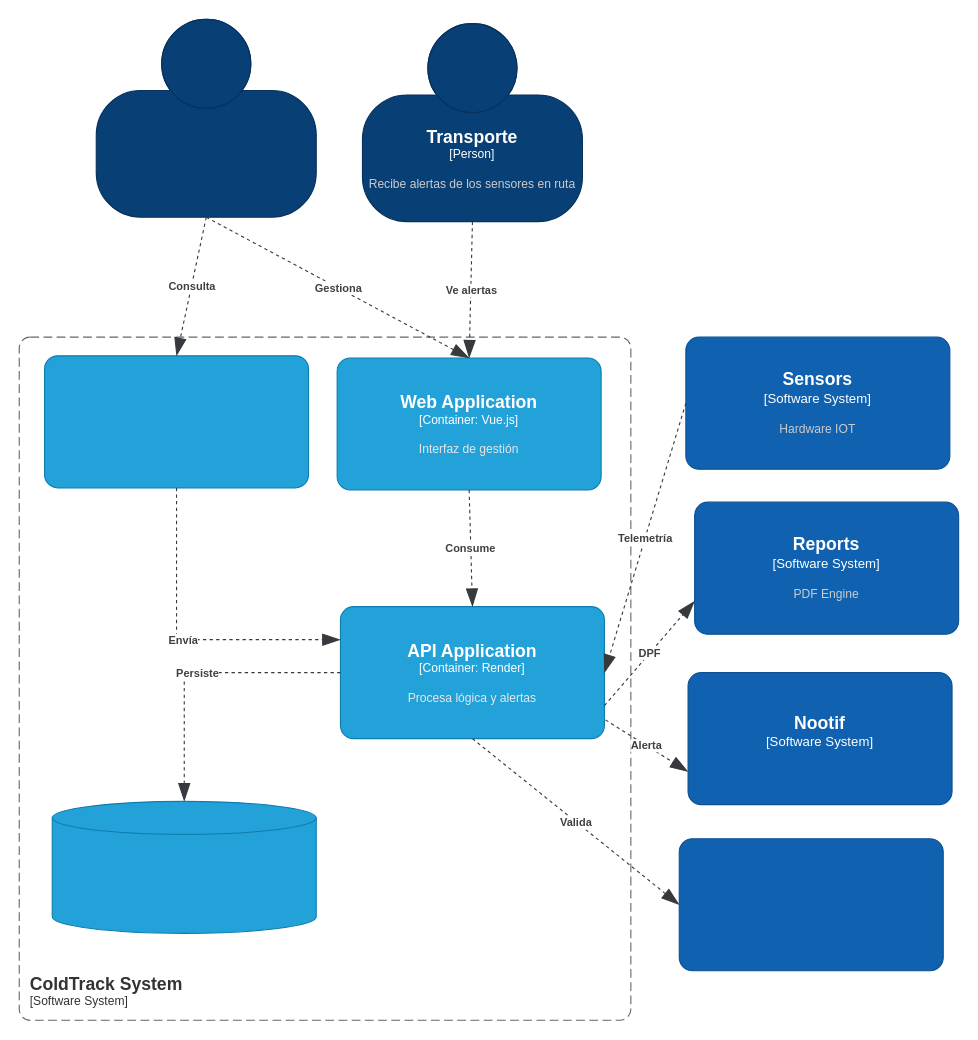
Image size: 978x1040. Some labels were removed from this diagram. Here are the shapes that lost their labels. From the top down, the centre of each, then its label:
point 205,117: Logística [Person] Supervisa envíos y telemetría
point 176,421: Landing Page [Container: HTML/CSS/Java] Informa y capta clientes
point 183,866: Database [Container: MYSQL] Persistencia de datos
point 810,904: Auth [Software System] Autenticación
